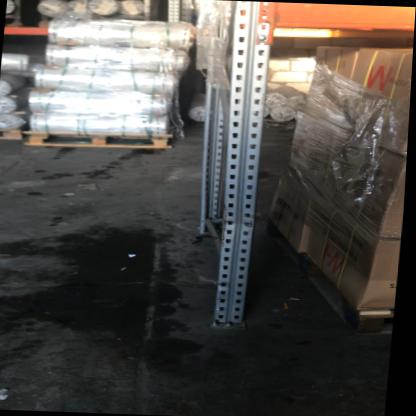vertical_damage: (223, 185, 265, 246)
